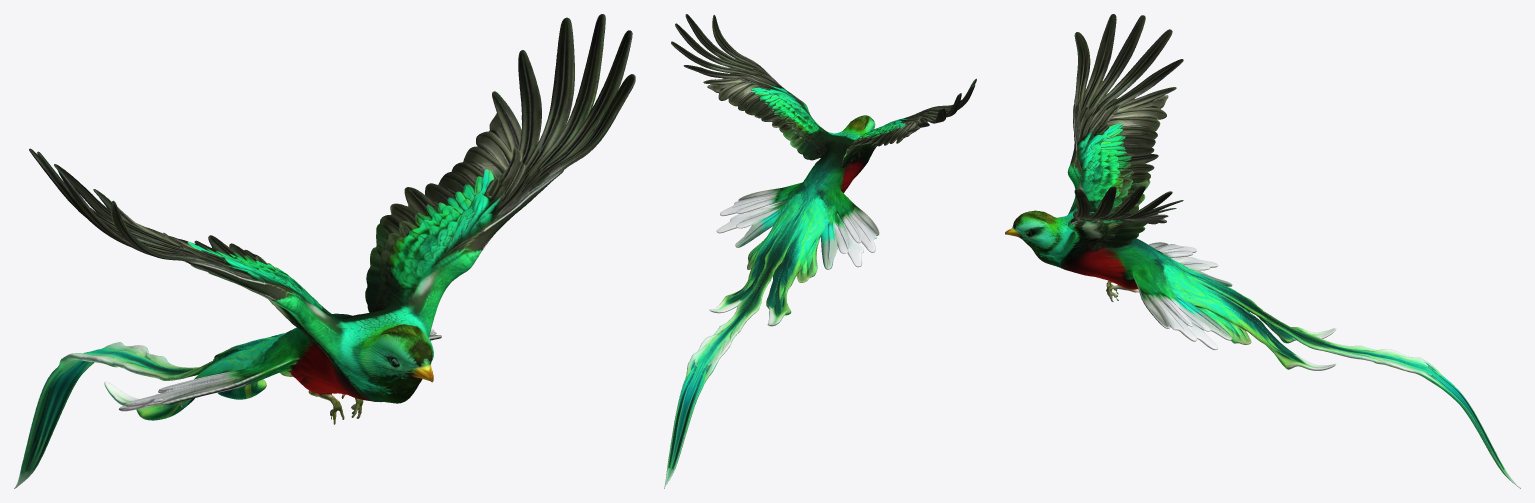
File: fly_RQ.compressed.glb
3 views of the same model, side by side, from view 1: azimuth 30°, elevation 25°; view 2: azimuth 150°, elevation 25°; view 3: azimuth 270°, elevation 25° (orthographic). The views are drawn at different scales.
Size of the model in its own units: 1.5 by 1.58 by 1.9.
1 material, 1 textured.
